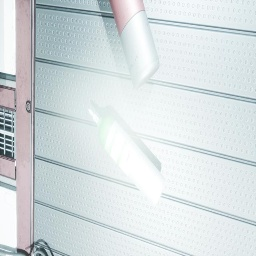0: (88, 108, 164, 206)
FireExtinguisher ]: (29, 249, 47, 256)
NitrogenTank ,: (109, 0, 160, 90)
